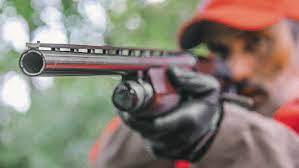weapon: (18, 41, 201, 112)
